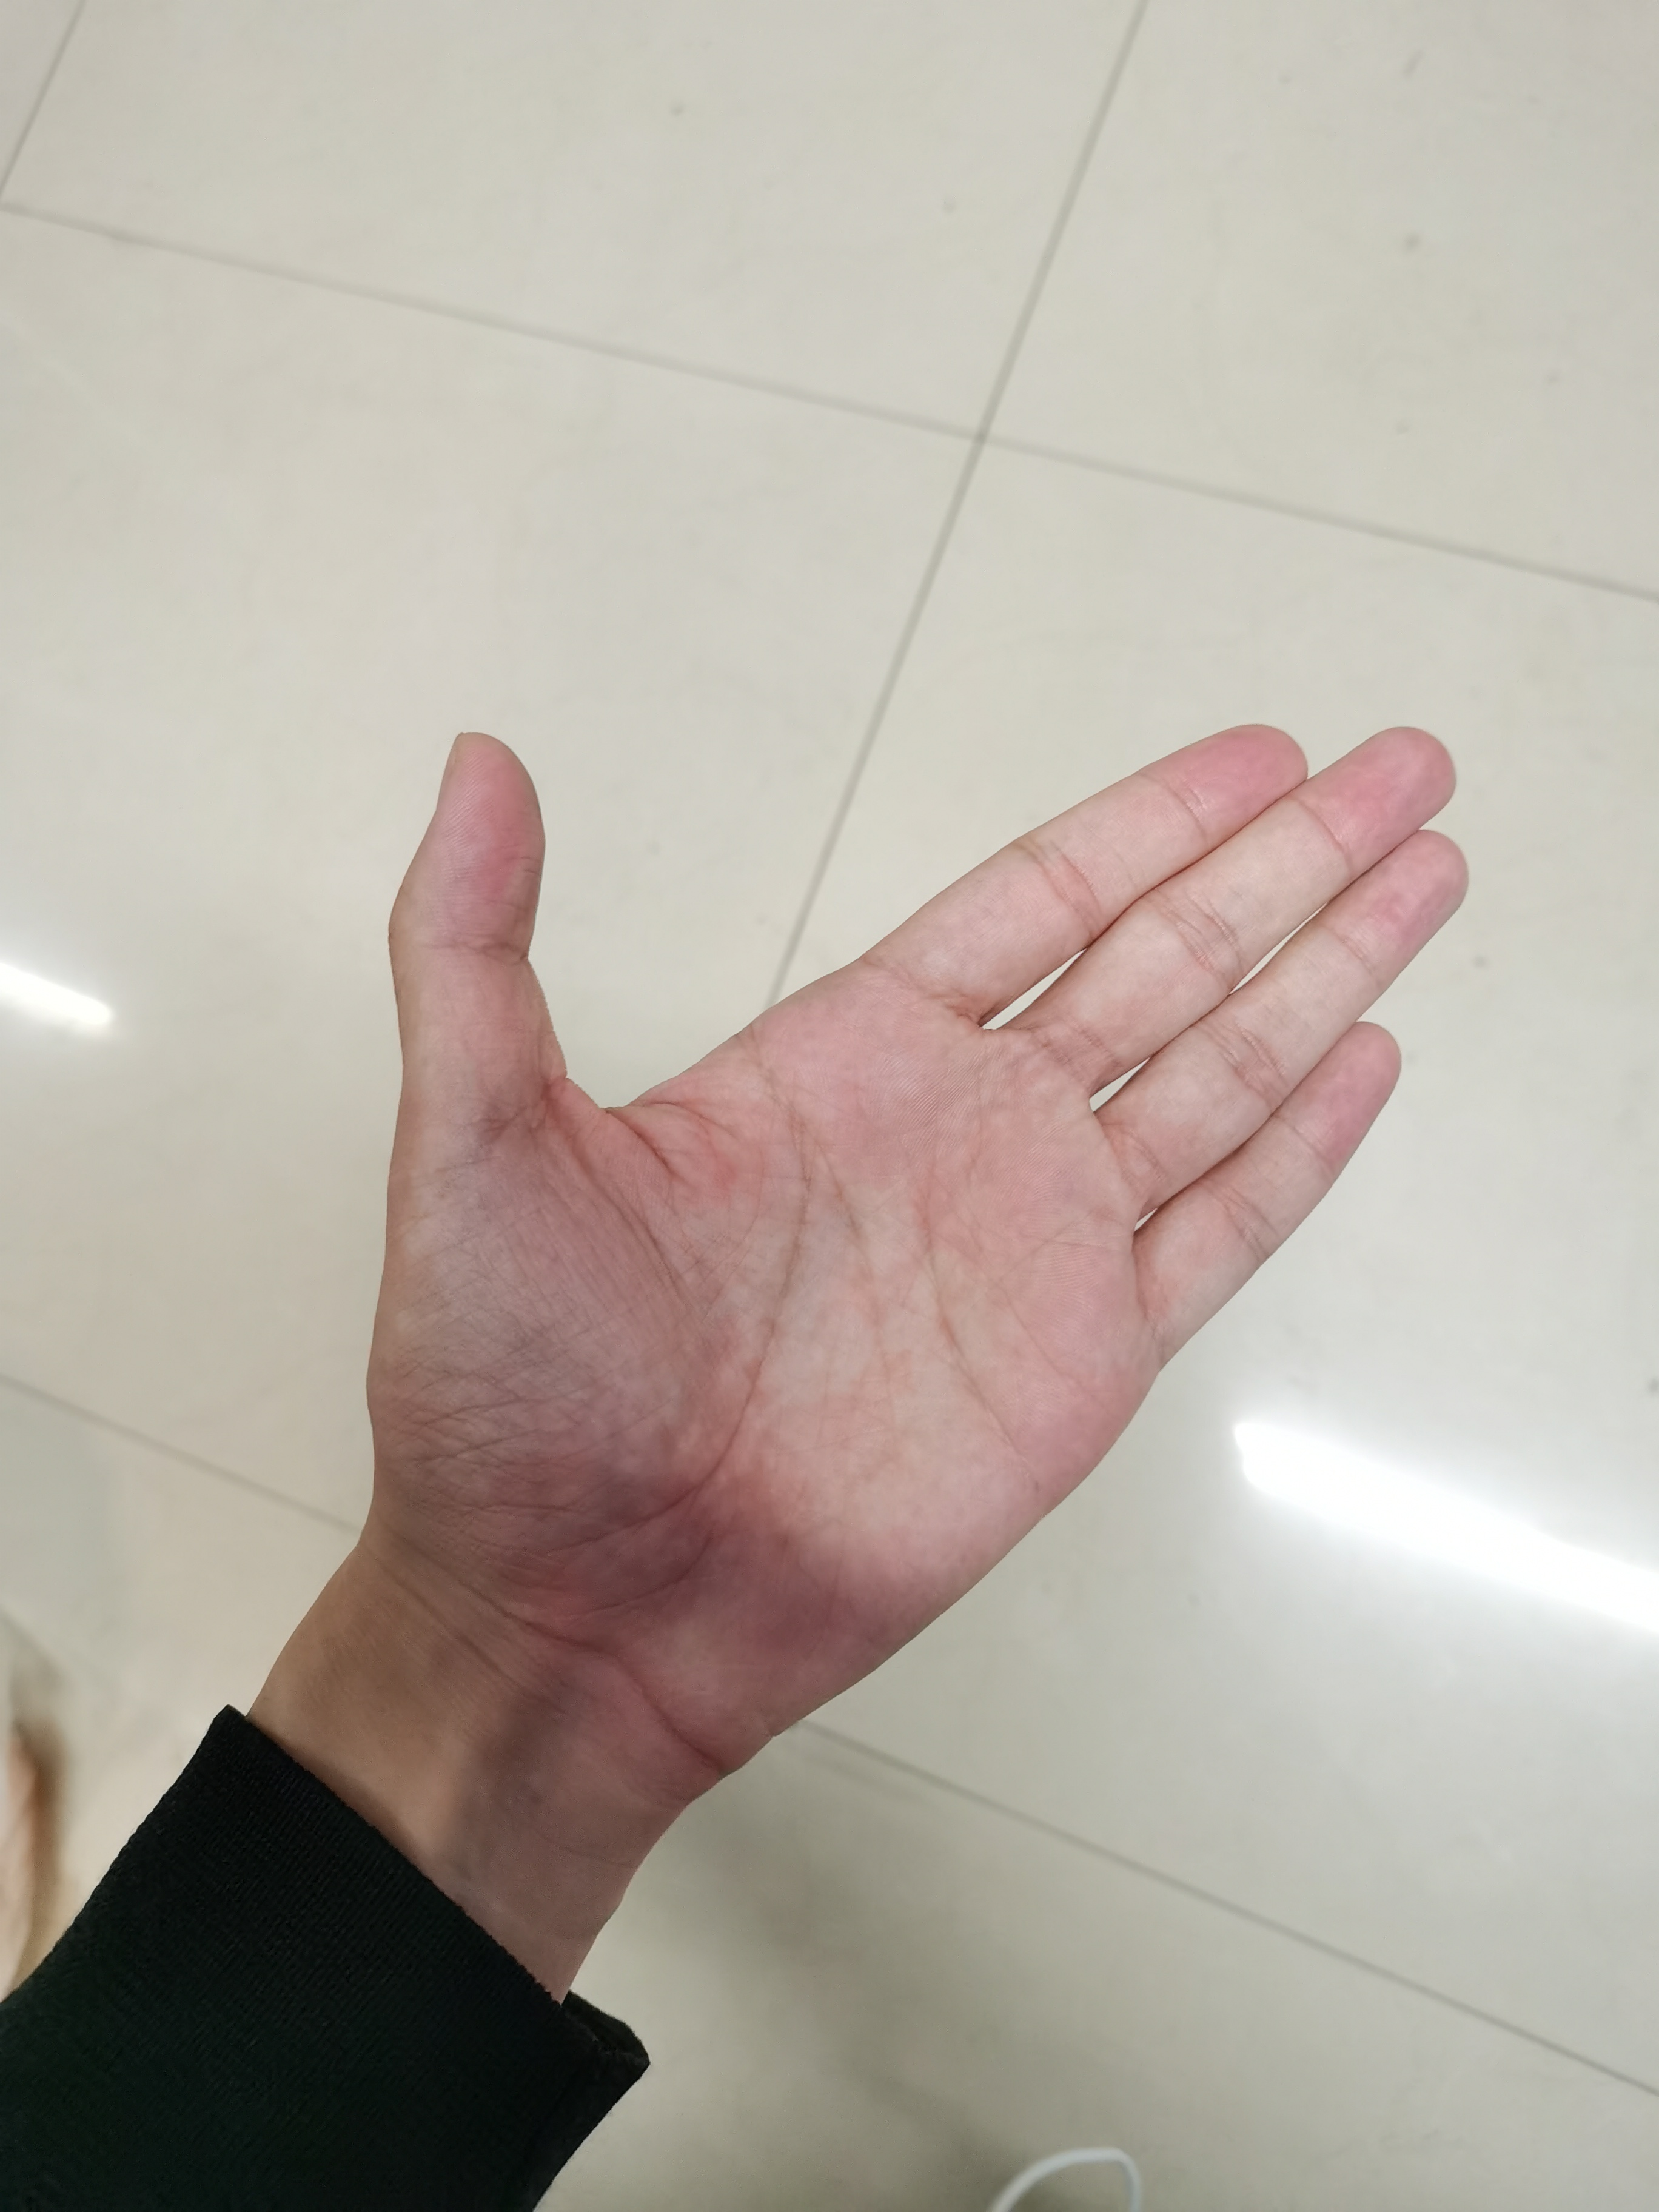no-phone: (333, 629, 1495, 1792)
